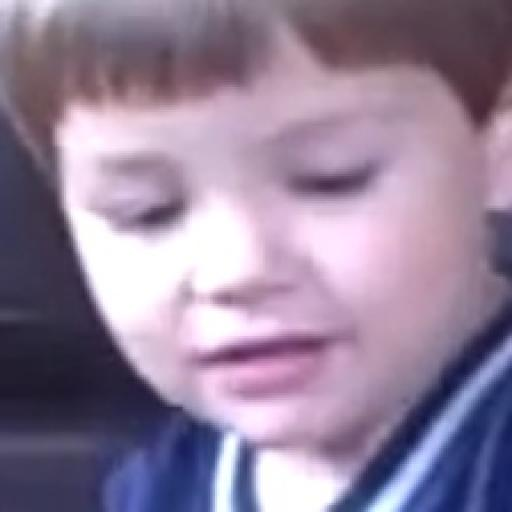Autism: (22, 0, 512, 476)
